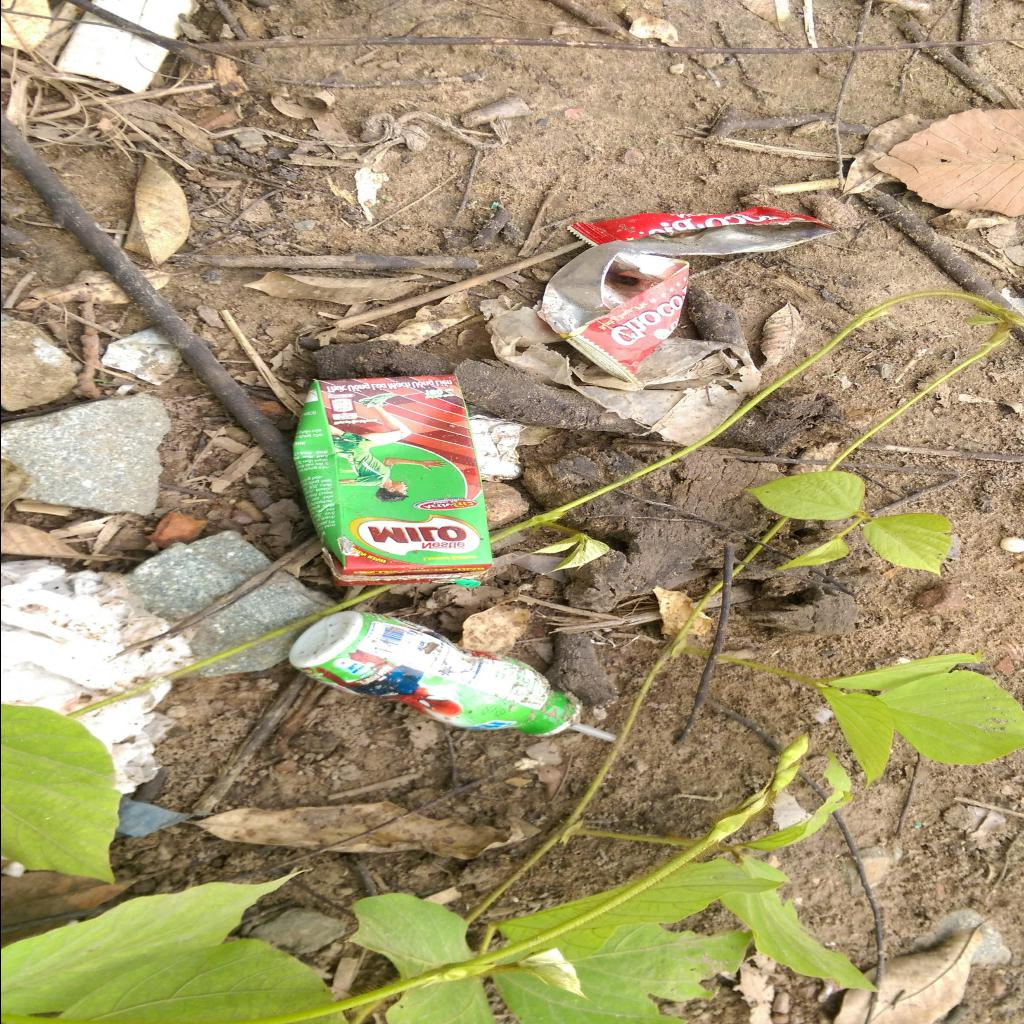Other plastic: (537, 206, 837, 383)
Plastic straw: (570, 723, 614, 741)
Unlabeled litter: (1, 556, 197, 794), (478, 294, 760, 446), (469, 412, 527, 482)
